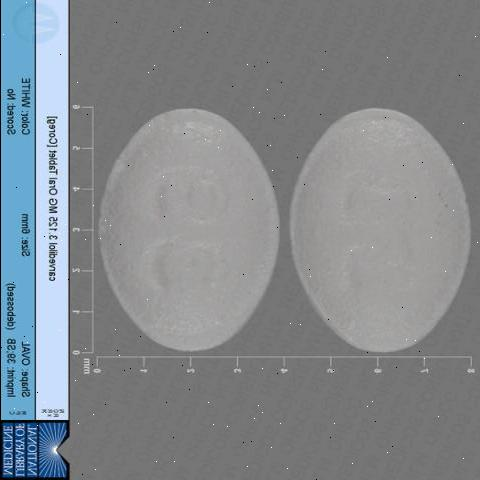Pill: (94, 58, 277, 378), (283, 69, 472, 359)
